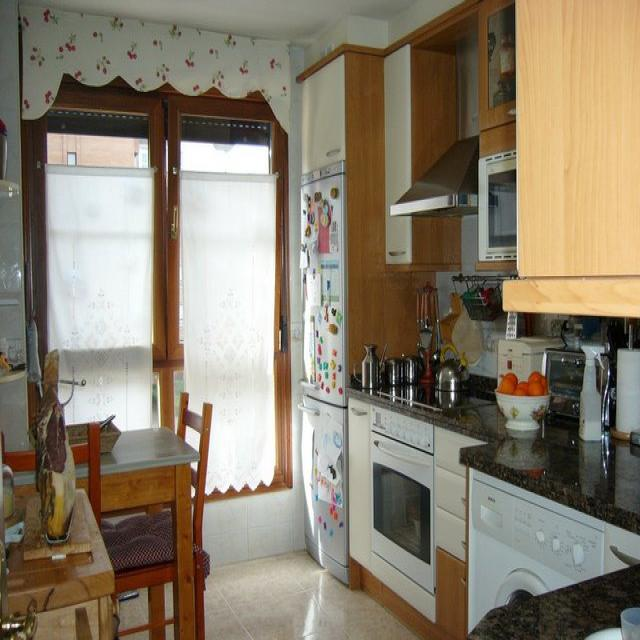Blinds: (178, 168, 279, 496), (38, 169, 152, 432)
Counter top: (349, 387, 639, 533)
Fruit bowl: (495, 392, 550, 428)
Markise: (18, 3, 289, 133)
Oranges: (498, 371, 547, 396)
Refrigerator: (298, 161, 348, 587)
Vent hood: (390, 135, 478, 220)
clothes: (469, 480, 605, 632)
kettle: (435, 344, 473, 388)
microwave: (481, 155, 516, 261)
oven cloth: (369, 405, 434, 596)
toaster: (545, 347, 586, 411)
